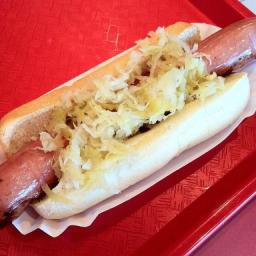hotdog: (0, 123, 78, 219), (187, 27, 256, 79), (225, 8, 256, 34)
